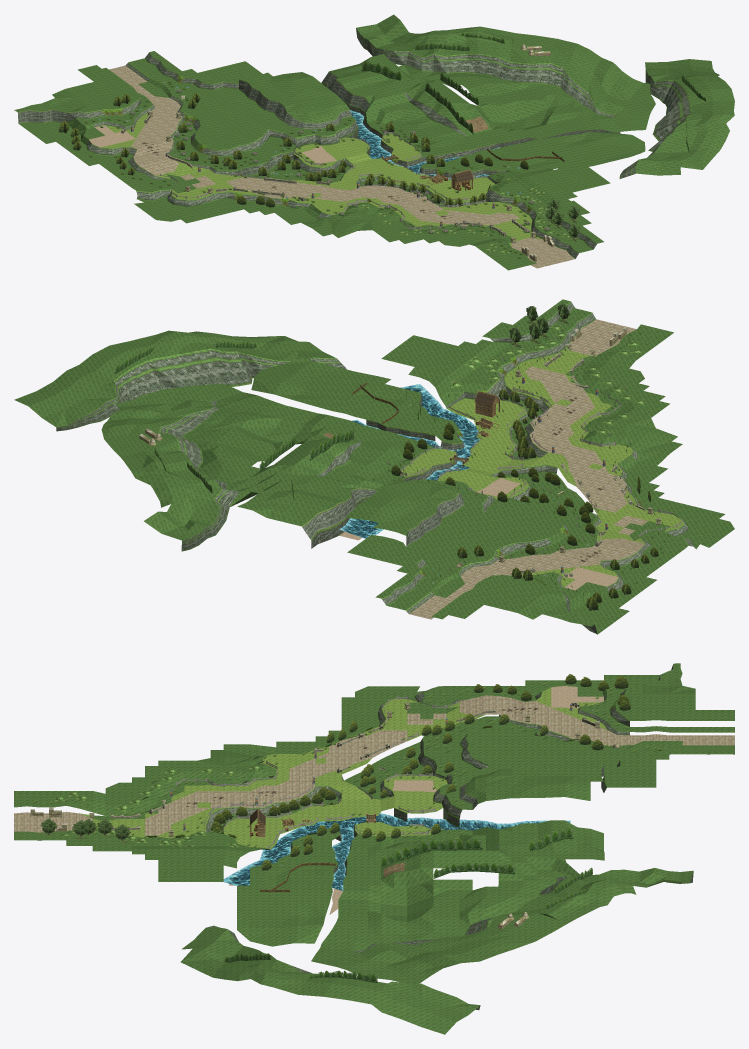
File: Armorica1.obj
3 views of the same model, one above another, from view 1: azimuth 30°, elevation 25°; view 2: azimuth 150°, elevation 25°; view 3: azimuth 270°, elevation 25° (orthographic). The views are drawn at different scales.
Visible parts, largest first — view 1: Object.85, Object.81, Object.9, Object.20, Object.79, Object.24, Object.23, Object.78, Object.38, Object.1, Object.66, Object.65 (+83 smaller); view 2: Object.215, Object.79, Object.9, Object.74, Object.1, Object.5, Object.75, Object.62, Object.83, Object.24, Object.38, Object.63 (+75 smaller); view 3: Object.65, Object.25, Object.66, Object.63, Object.81, Object.79, Object.28, Object.74, Object.75, Object.70, Object.30, Object.1 (+68 smaller).
Part boxes in pixels (x1,y1,x2,y2): Object.85: (671,111,729,156); Object.81: (486,82,557,122); Object.9: (196,89,456,229); Object.20: (269,88,339,130); Object.79: (510,105,589,138); Object.24: (366,76,437,109); Object.23: (387,90,465,134); Object.78: (436,26,501,56); Object.38: (219,110,293,143); Object.1: (138,78,401,230); Object.66: (564,86,648,131); Object.65: (440,89,509,122); Object.215: (146,348,238,388); Object.79: (219,399,318,442); Object.9: (407,387,622,563); Object.74: (28,376,115,427); Object.1: (431,416,655,597); Object.5: (395,365,608,605); Object.75: (53,350,145,398); Object.62: (237,484,322,522); Object.83: (158,486,219,534); Object.24: (267,454,357,495); Object.38: (441,500,529,537); Object.63: (216,451,308,488); Object.65: (407,851,484,905); Object.25: (338,863,407,906); Object.66: (322,926,423,966); Object.63: (460,851,540,901); Object.81: (407,897,485,934); Object.79: (333,900,407,934); Object.28: (276,732,539,904); Object.74: (391,983,480,1021); Object.75: (332,978,421,1018); Object.70: (272,924,354,966); Object.30: (79,782,147,815); Object.1: (209,741,682,785).
Size of the model in its own units: 248 by 19.01 by 220.
23 materials, 23 textured.
